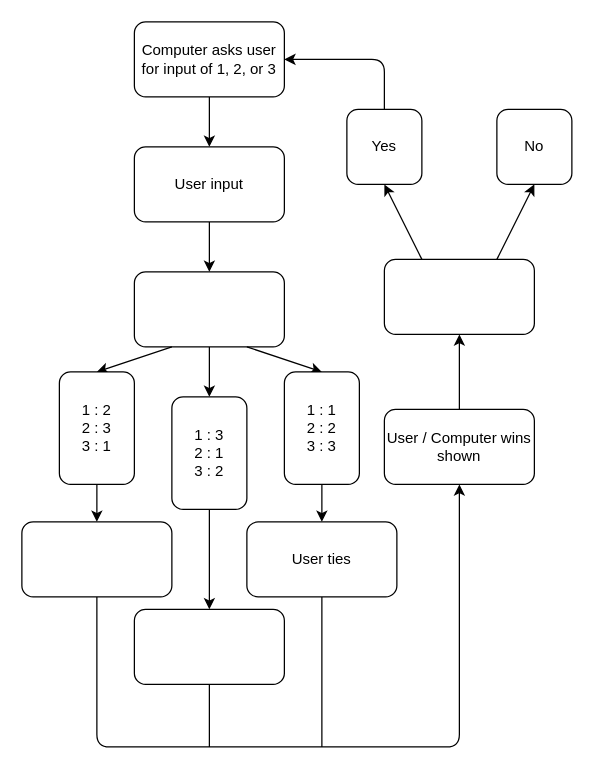
This 594x779 diagram has some shape labels left out. Here are the shapes that lost their labels. From the top down, the box of each, then its label:
(133, 271, 284, 347): Computer randomly assigned 1, 2, or 3
(383, 258, 534, 334): User asked if they would like to play again
(21, 521, 172, 597): User loses
(133, 608, 284, 684): User wins
